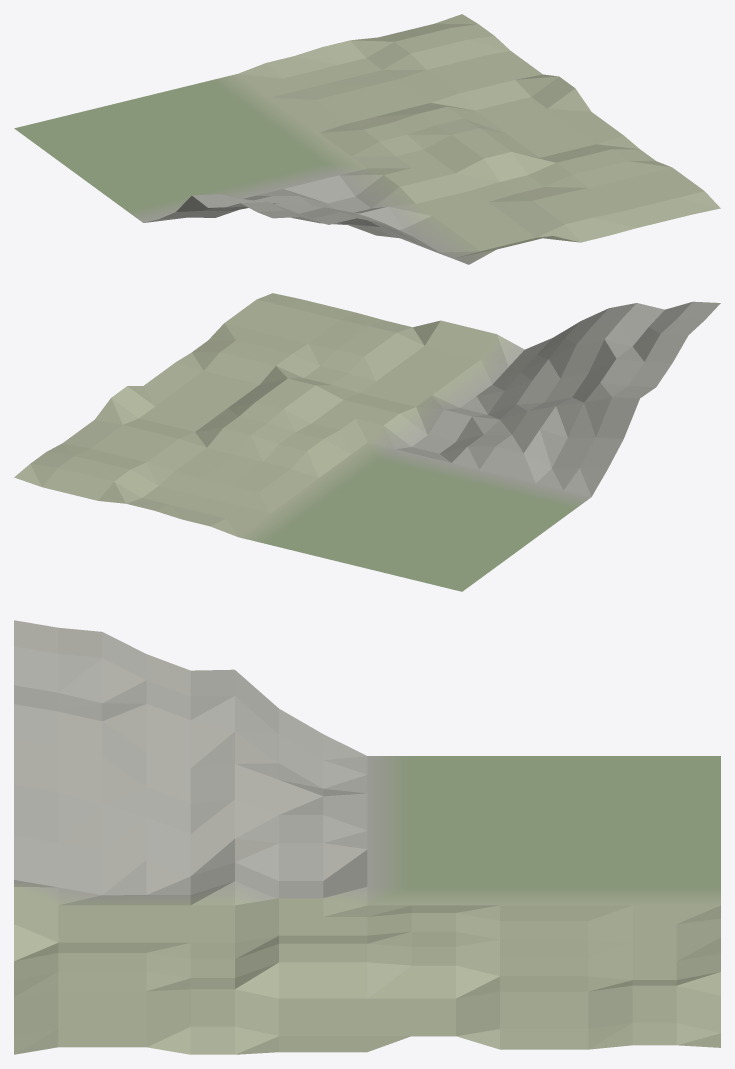
The picture shows the model from 3 angles, top to bottom: view 1: azimuth 30°, elevation 25°; view 2: azimuth 150°, elevation 25°; view 3: azimuth 270°, elevation 25°; orthographic projection. The views are drawn at different scales.
Bounding box in the file's own units: 32 × 7.43 × 32.
